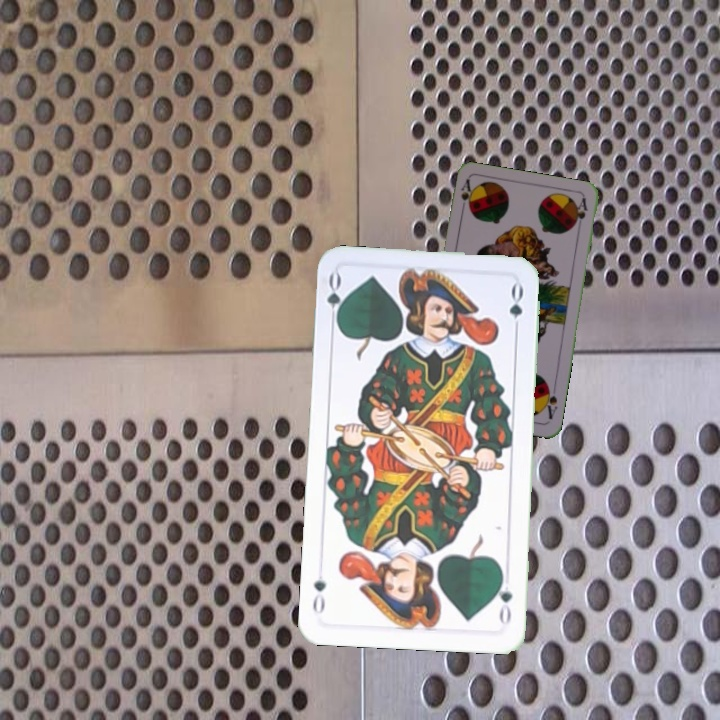GO: (323, 270, 348, 329), (492, 569, 515, 628)
SA: (540, 381, 560, 422), (457, 176, 474, 216)
